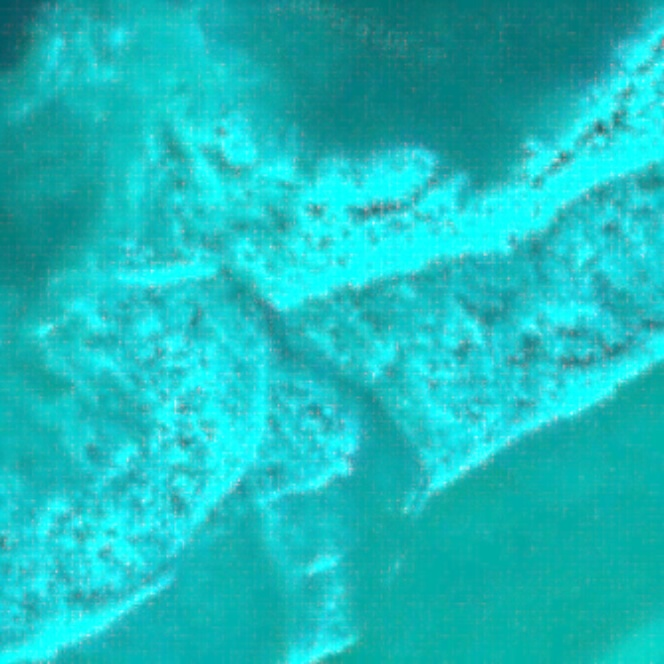rip_current: (111, 115, 450, 487)
